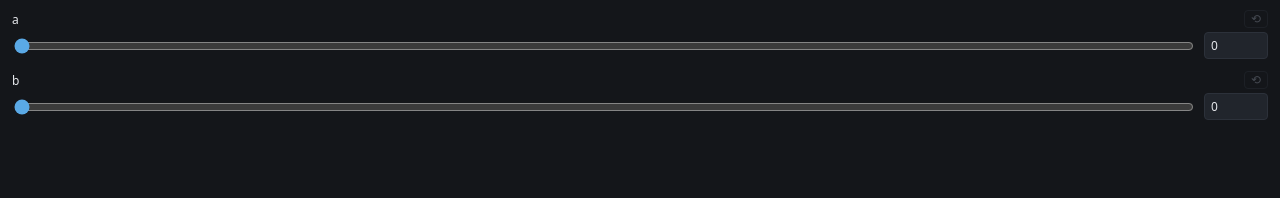
Test: ParameterPanel › reconciles the slider set on graph edits, preserving unrelated values
Set the slider named "a slider" to "0.7" at (837, 46), box [14,38,1194,54]
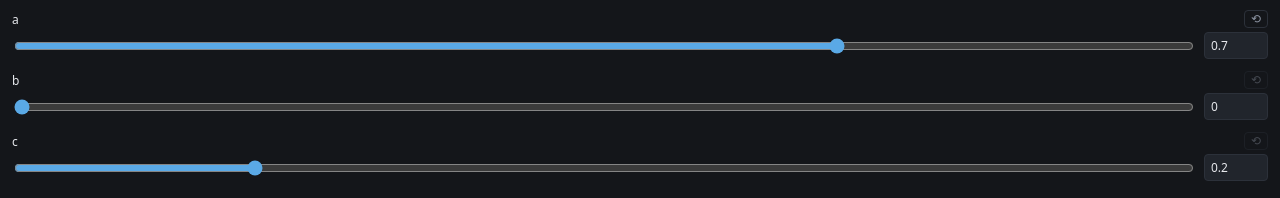
Now the slider named "c slider" holds "0.2", box [14,160,1194,176]
